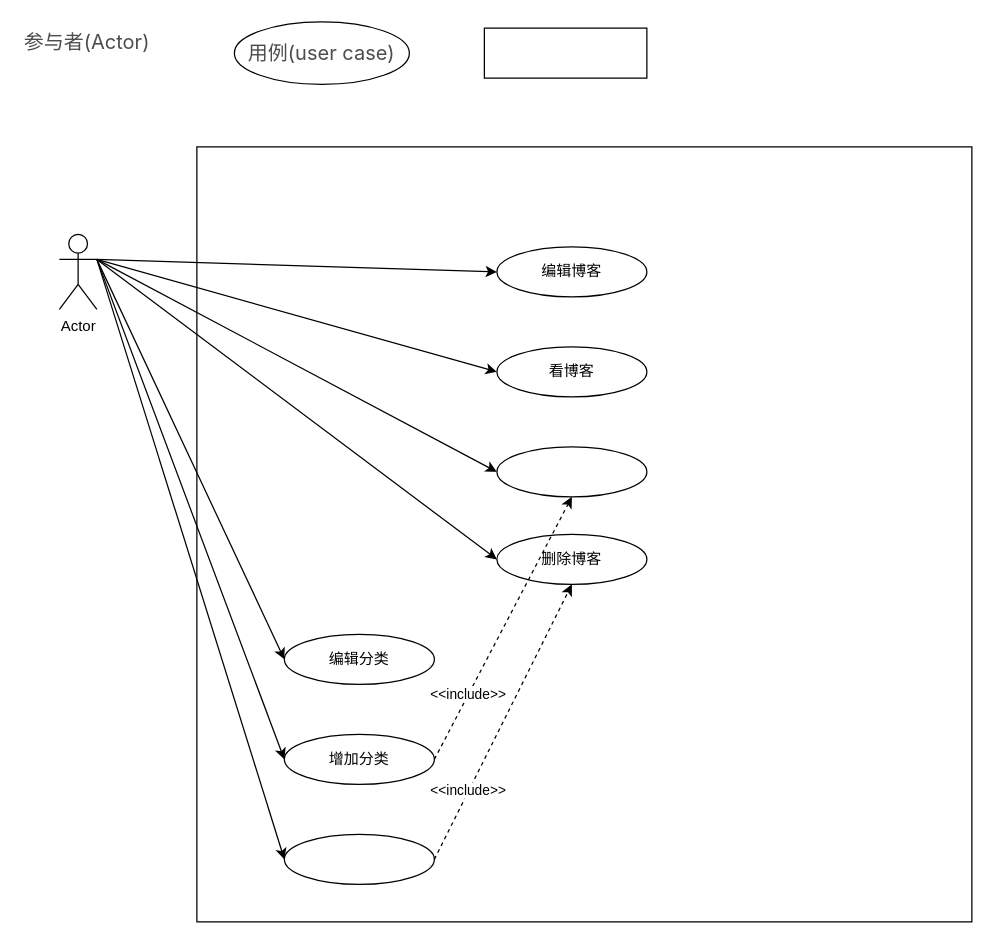
Image size: 994x944. Some labels were removed from this diagram. Here are the shapes that lost their labels. From the top down, the centre of each, then its label:
point (565, 52): 系统边界(Actor)
point (571, 471): 新建博客
point (358, 858): 删除分类
